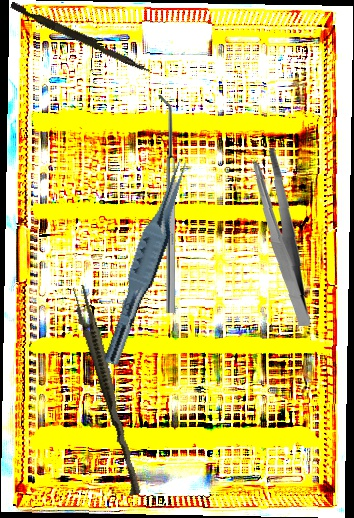Dressing Forceps: (247, 147, 318, 327)
Pusher: (8, 1, 153, 74)
Spatula Surgical: (158, 95, 175, 313)
Tissue Forceps: (102, 154, 194, 370), (66, 283, 150, 497)
